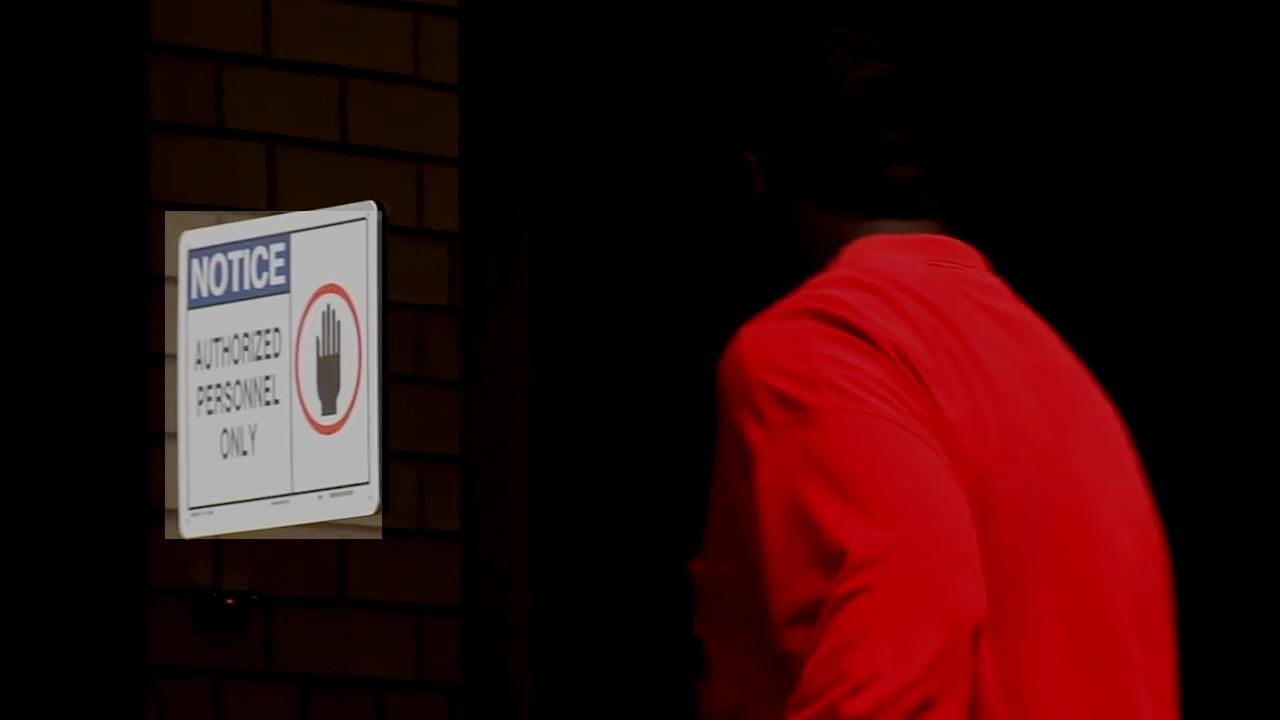safety_signage: (166, 212, 383, 540)
